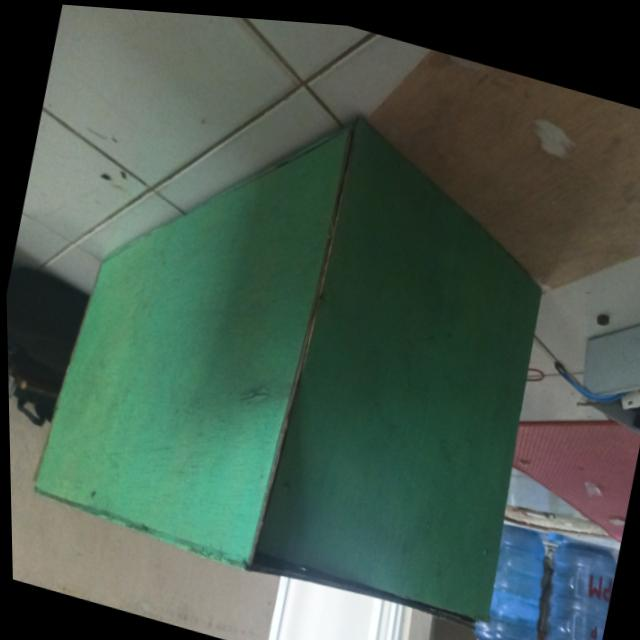green_box: (1, 30, 596, 640)
